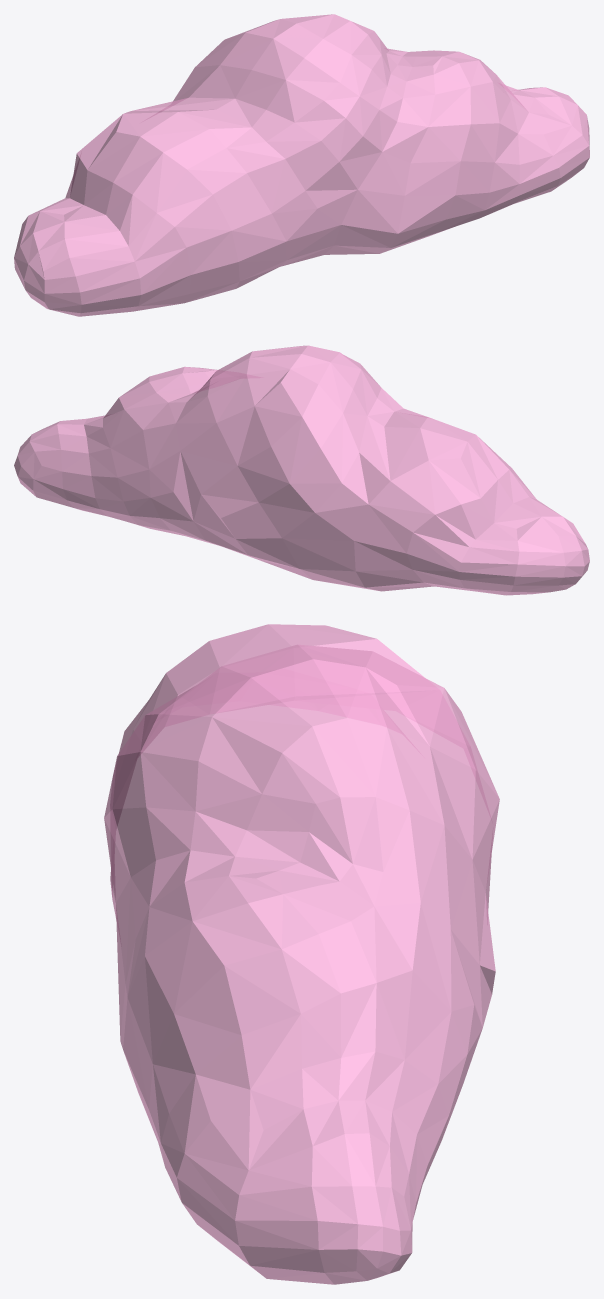
File: cloud3.glb
The picture shows the model from 3 angles, top to bottom: view 1: azimuth 30°, elevation 25°; view 2: azimuth 150°, elevation 25°; view 3: azimuth 270°, elevation 25°; orthographic projection. The views are drawn at different scales.
Visible parts, largest first — view 1: Node; view 2: Node; view 3: Node.
Boxes of the visible parts, box(x1,y1,x2,y2) form: Node: box(14, 14, 589, 316); Node: box(14, 345, 589, 595); Node: box(104, 624, 499, 1284).
Size of the model in its own units: 5.82 by 2.1 by 1.85.
